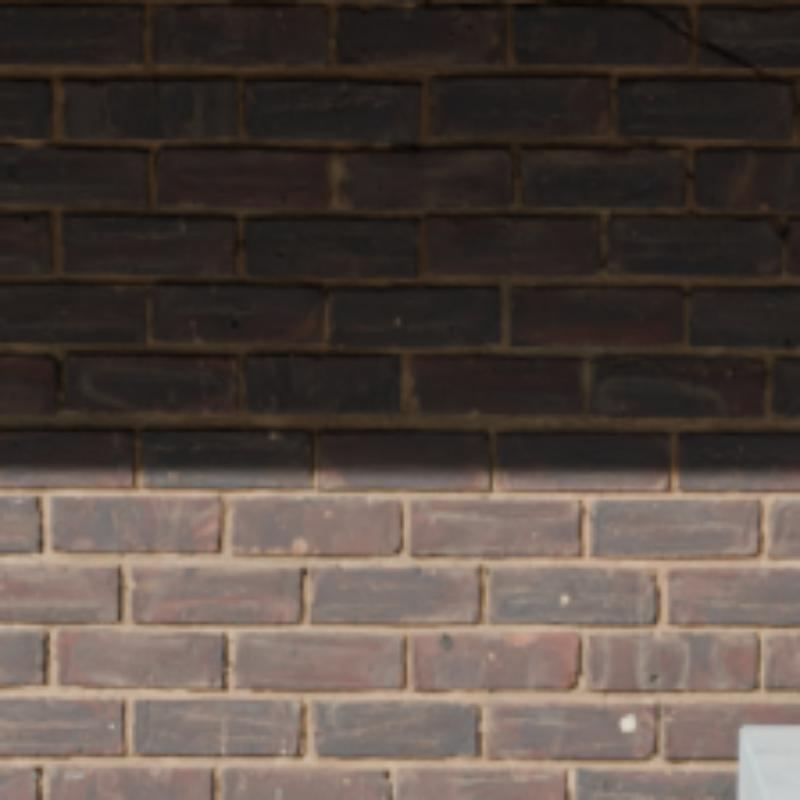pothole: (550, 0, 796, 114)
